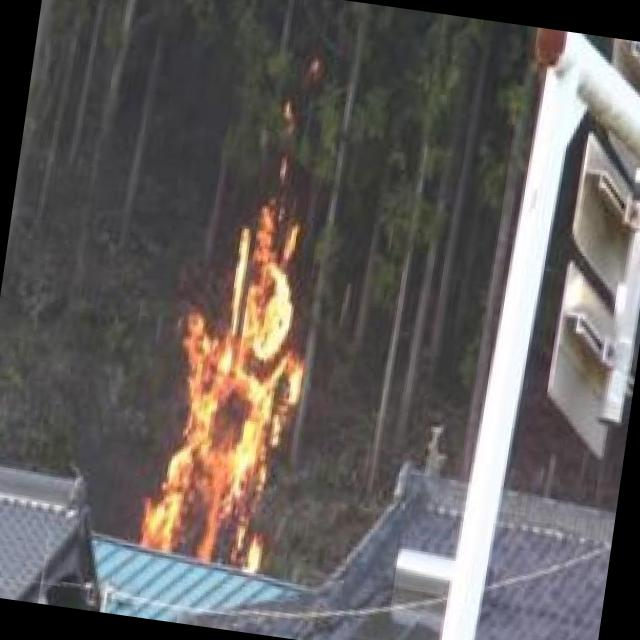Fire: (144, 202, 326, 581)
